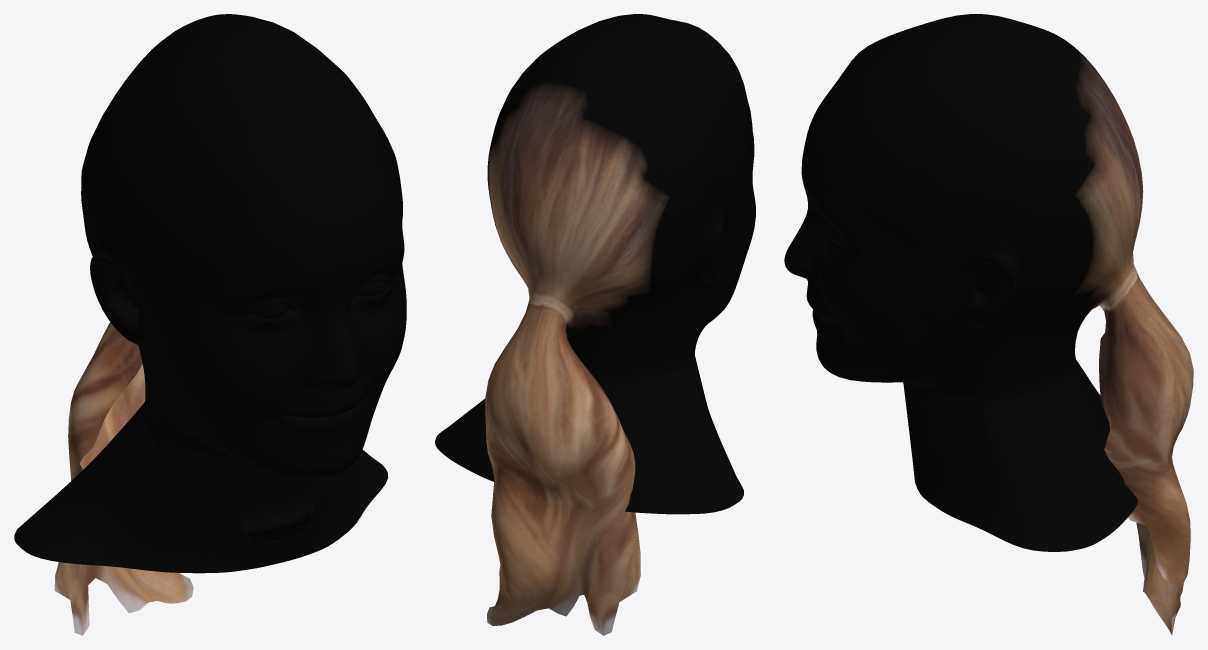
File: scanned-head-female.glb
3 renders of one model, left to right at view 1: azimuth 30°, elevation 25°; view 2: azimuth 150°, elevation 25°; view 3: azimuth 270°, elevation 25°, orthographic. The views are drawn at different scales.
Visible parts, largest first — view 1: claudia scanned head; view 2: claudia scanned head; view 3: claudia scanned head.
Part boxes in pixels (x1,y1,x2,y2): claudia scanned head: (14, 14, 406, 635); claudia scanned head: (435, 14, 755, 635); claudia scanned head: (784, 14, 1193, 635).
Size of the model in its own units: 0.4542 by 0.801 by 0.5039.
1 material, 1 textured.
